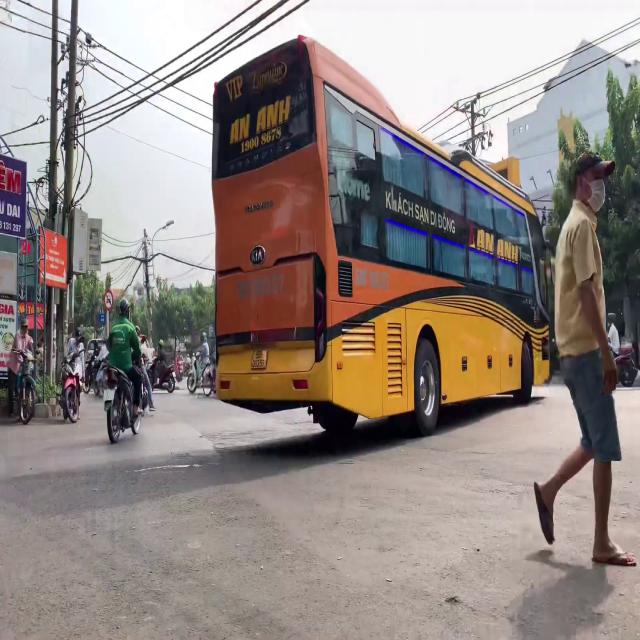bien_vang: (252, 347, 266, 370)
